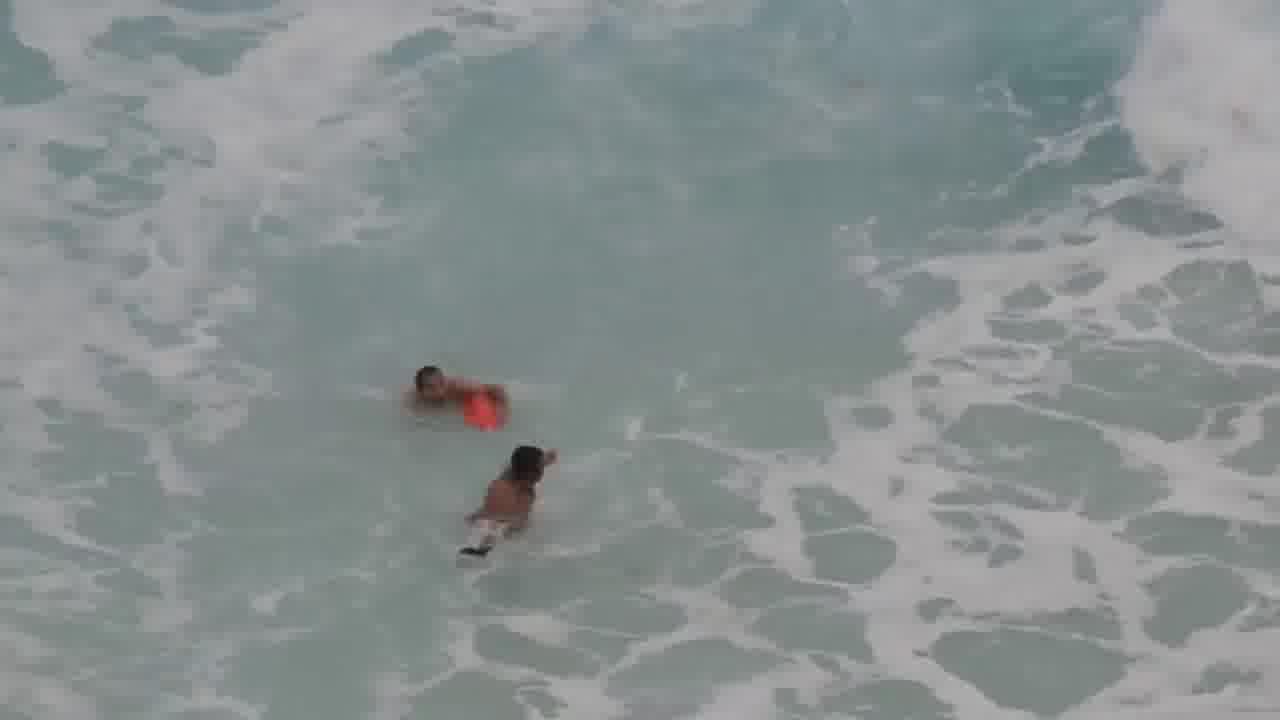swimmer: (492, 436, 551, 529), (396, 351, 453, 417)
